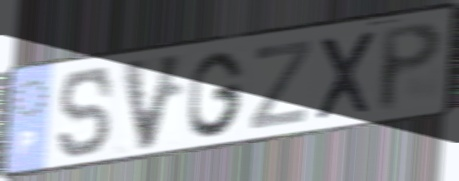G: (186, 48, 247, 140)
P: (377, 18, 446, 115)
S: (57, 65, 116, 162)
V: (120, 49, 189, 155)
X: (313, 26, 379, 124)
Z: (246, 37, 315, 132)
